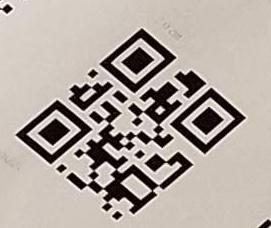qrcode: (16, 28, 247, 222)
